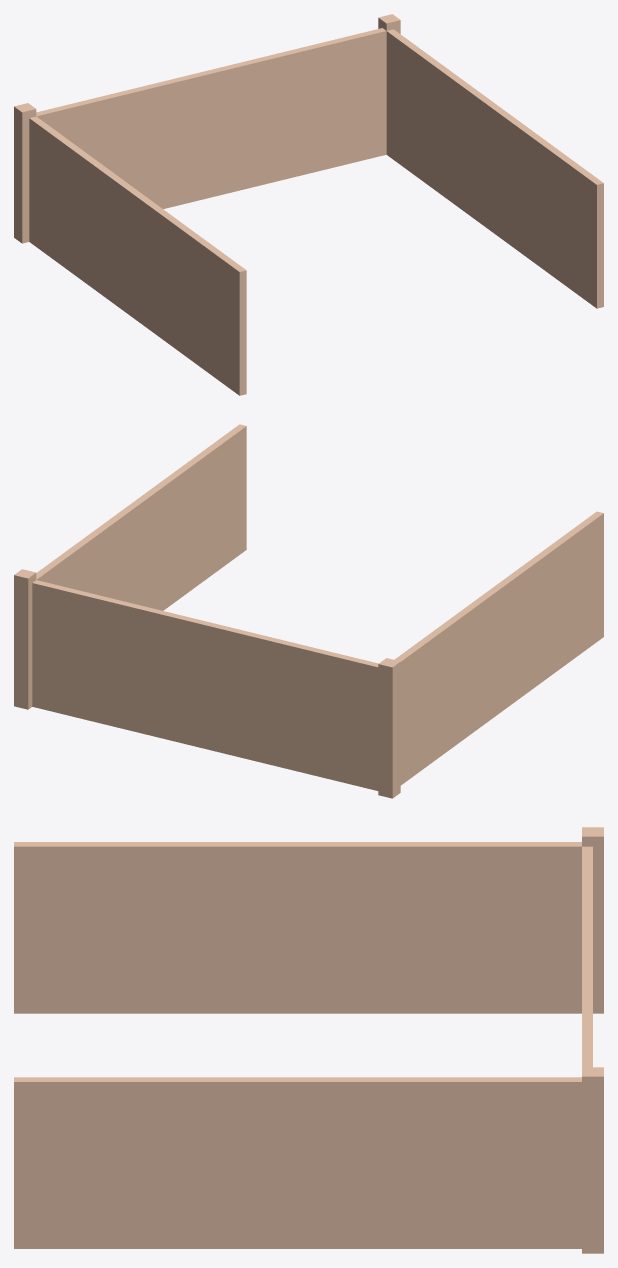
Rendered from fence_medium.glb.
3 renders of one model, top to bottom at view 1: azimuth 30°, elevation 25°; view 2: azimuth 150°, elevation 25°; view 3: azimuth 270°, elevation 25°, orthographic. The views are drawn at different scales.
Visible parts, largest first — view 1: fence_medium; view 2: fence_medium; view 3: fence_medium.
Part boxes in pixels (x1,y1,x2,y2): fence_medium: (14,14,603,395); fence_medium: (14,424,603,798); fence_medium: (14,827,603,1253).
Bounding box in the file's own units: 0.8 × 0.265 × 0.8.
